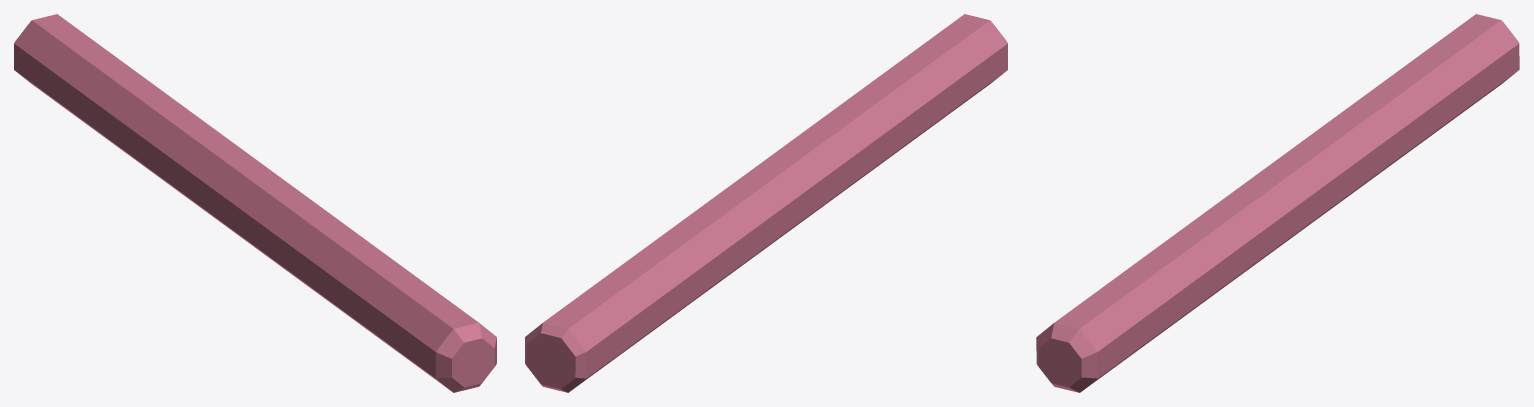
File: Rodillo.fbx
The picture shows the model from 3 angles, left to right: view 1: azimuth 30°, elevation 25°; view 2: azimuth 150°, elevation 25°; view 3: azimuth 330°, elevation 25°; orthographic projection.
Visible parts, largest first — view 1: polySurface115; view 2: polySurface115; view 3: polySurface115.
Part boxes in pixels (x1,y1,x2,y2): polySurface115: [14, 14, 496, 392]; polySurface115: [525, 14, 1007, 392]; polySurface115: [1036, 14, 1519, 392].
Bounding box in the file's own units: 2.58 × 2.58 × 31.62.
